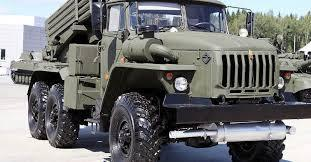MIL_SAM_TEL: (33, 0, 291, 162)
